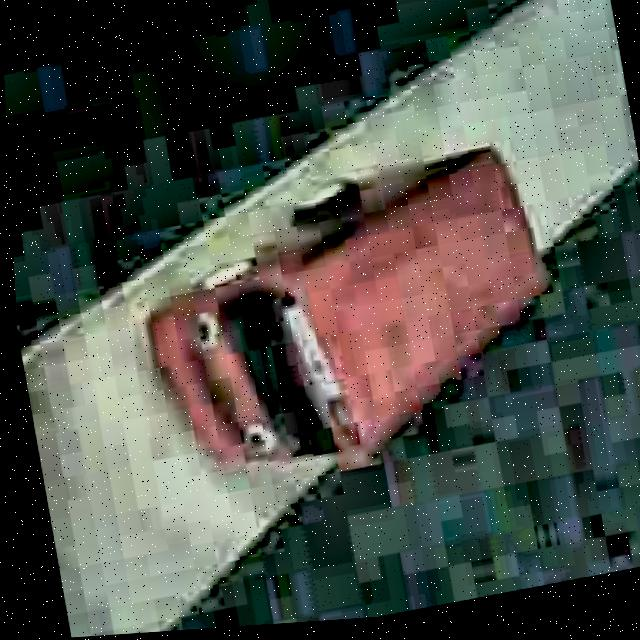bus: (120, 133, 571, 503)
